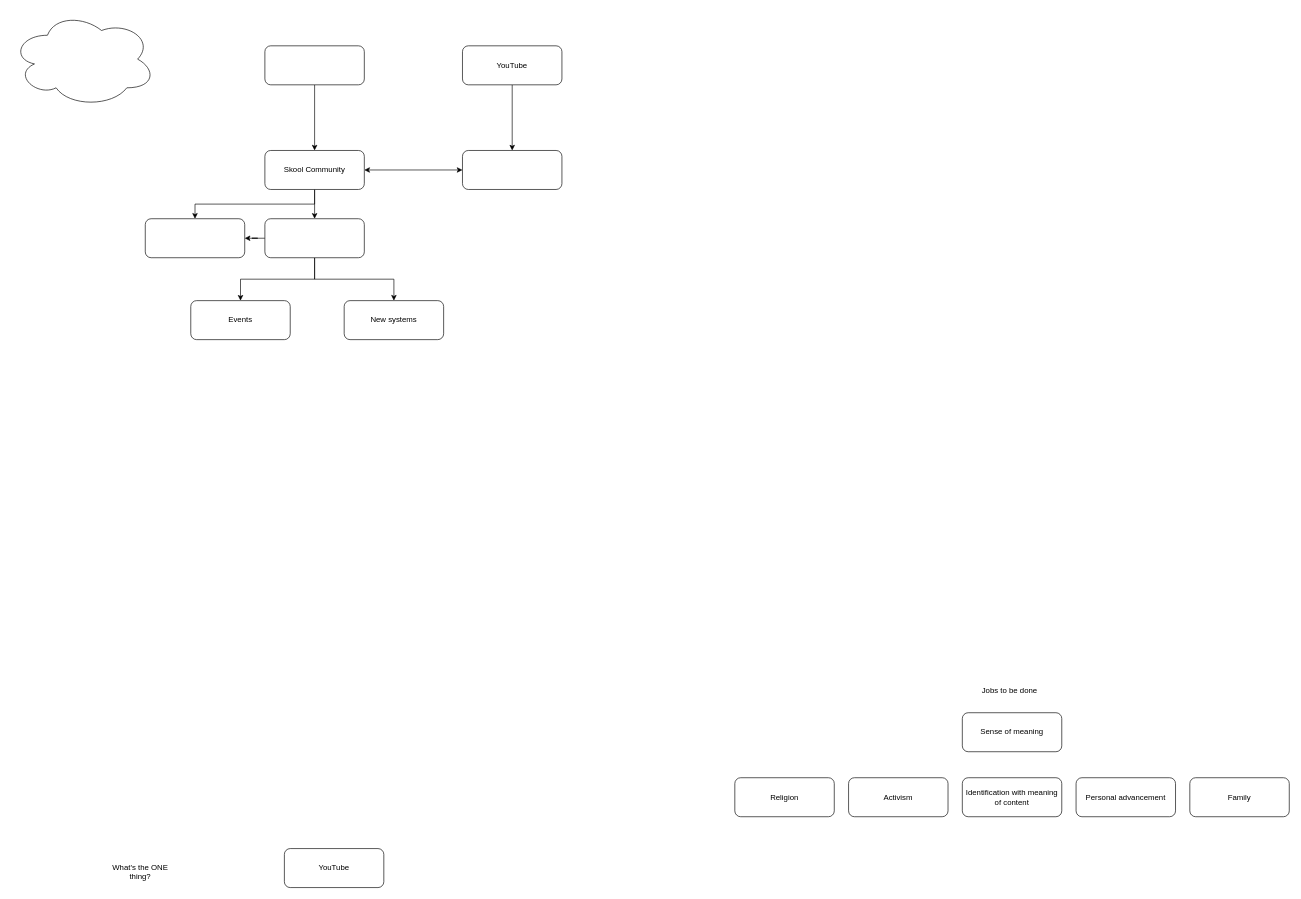
The diagram is 1301 pixels wide and 899 high, and some of its shapes have lost their labels. The centre of each missing label's shape, as x and y in pixels:
Courses: the point at 314,238
Get buy-in (webinar style video): the point at 512,169
I'm worried about the world, but unsure what to do: the point at 83,59
Instagram Reels: the point at 314,65
Things we're proud of: the point at 195,238
